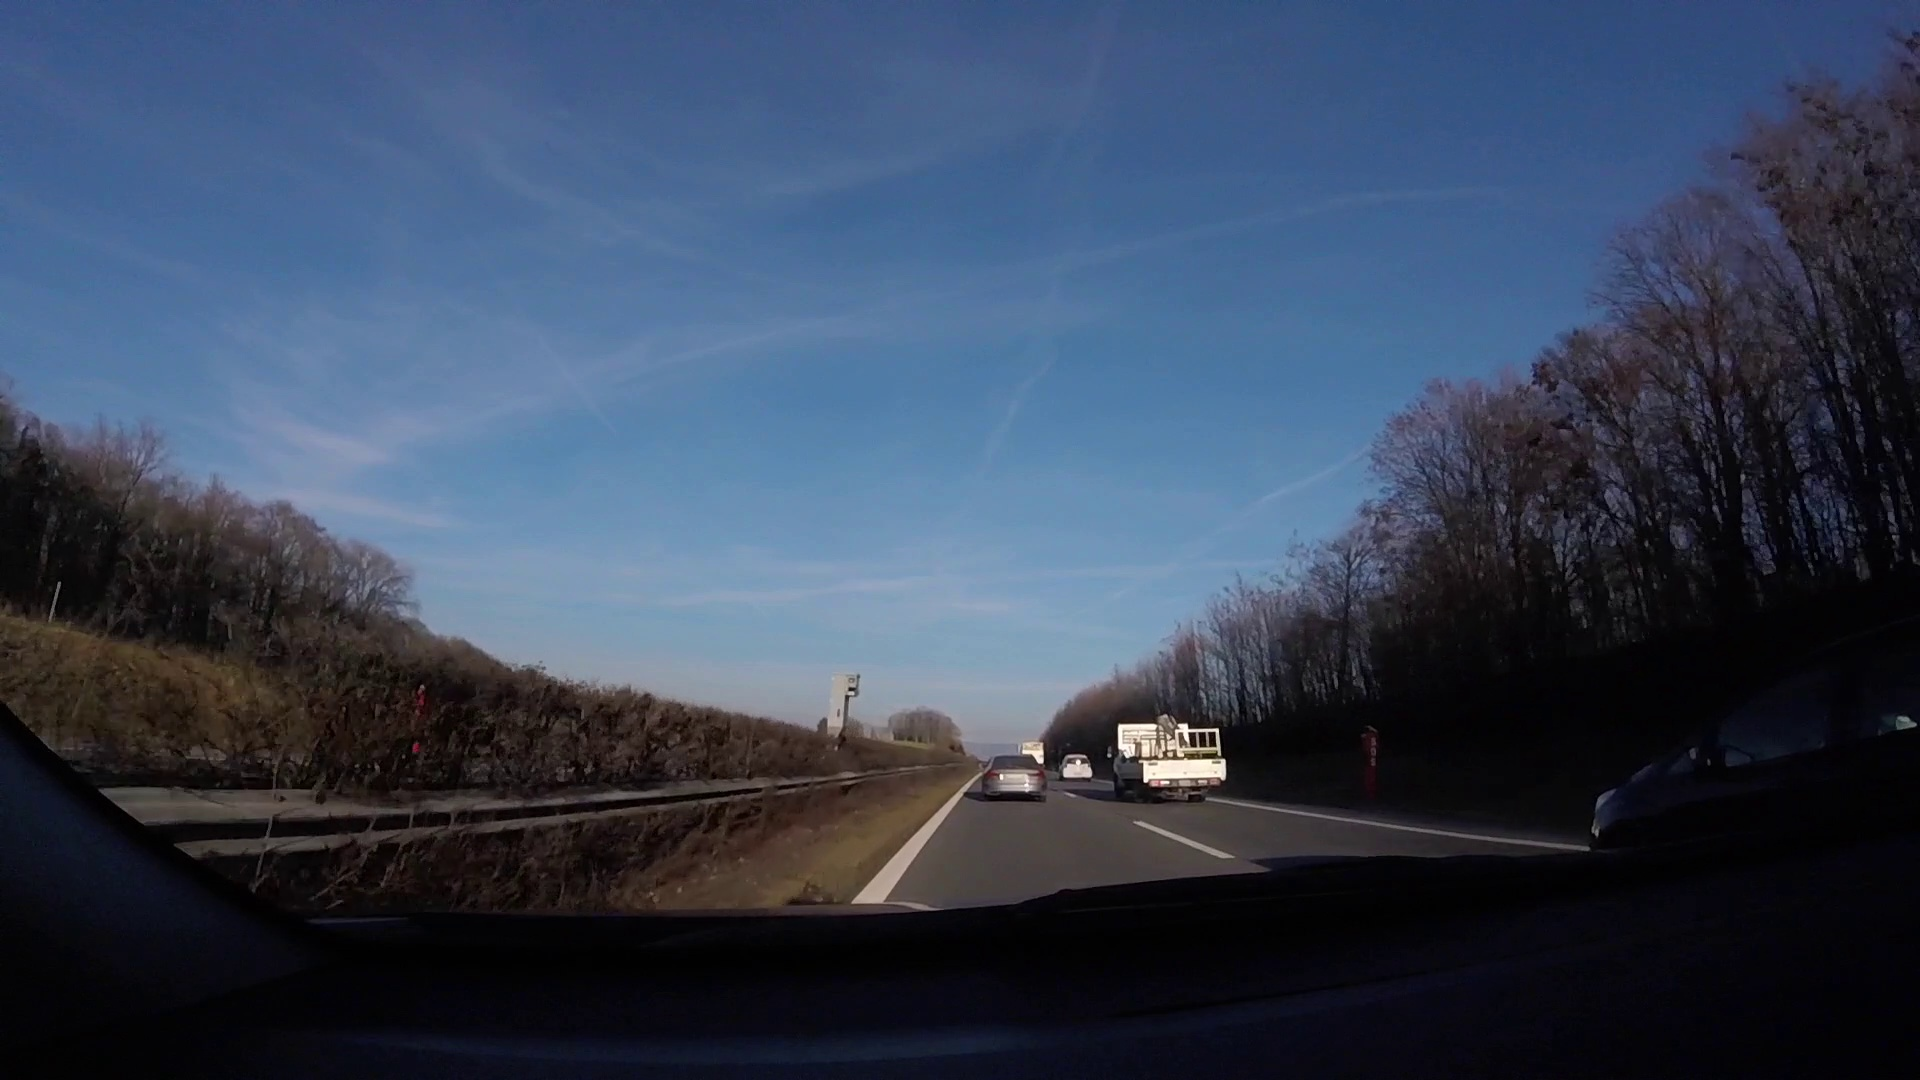radar: (827, 671, 861, 741)
